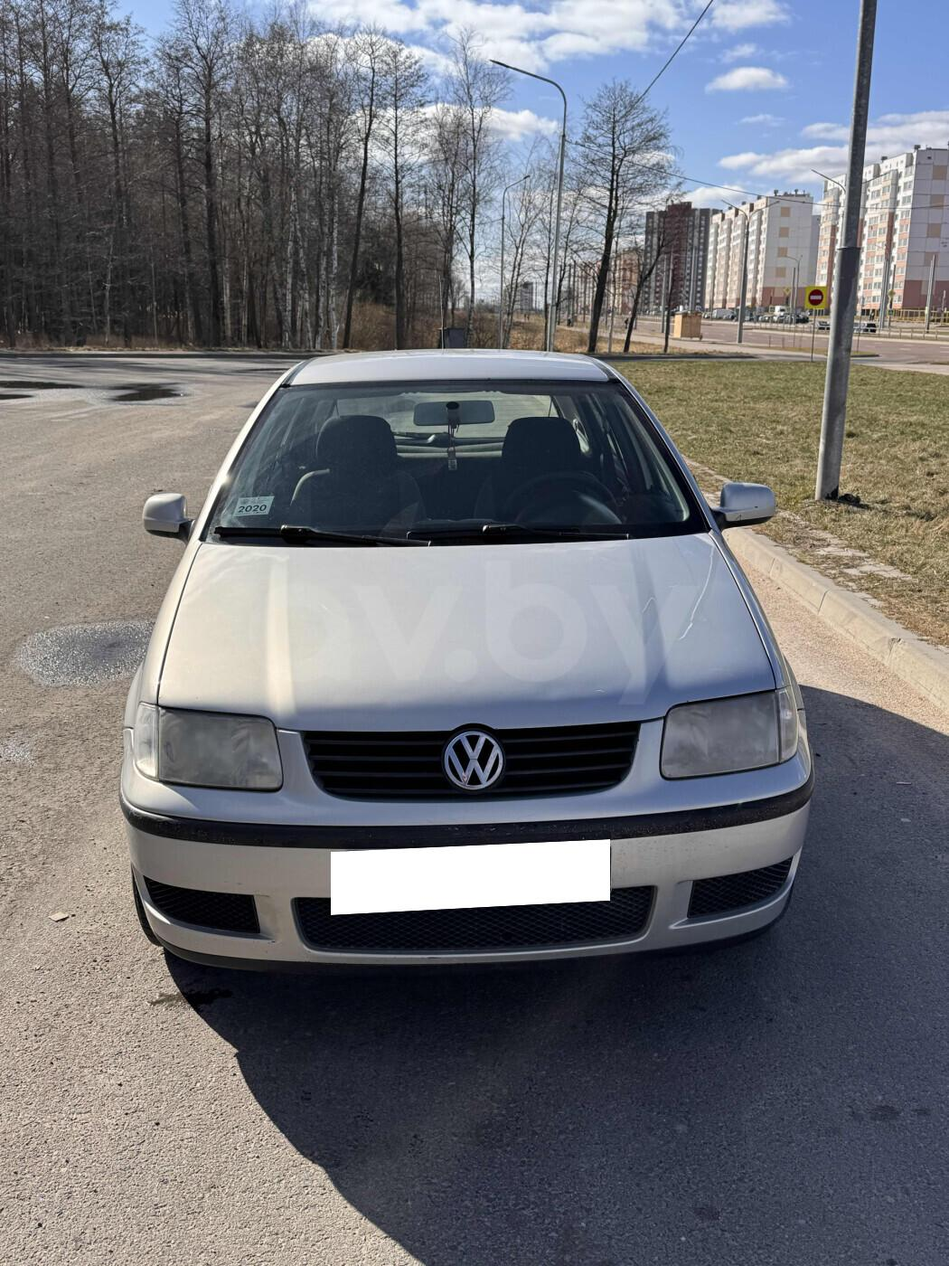Polo_2000-2002: (90, 340, 867, 998)
